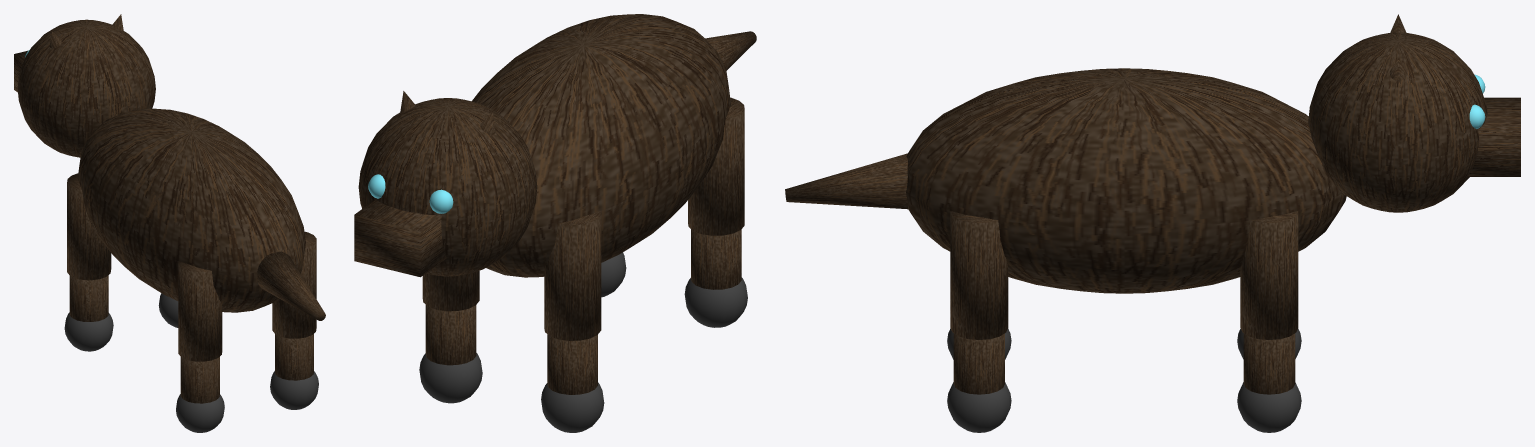
File: hyena.glb
The picture shows the model from 3 angles, left to right: view 1: azimuth 30°, elevation 25°; view 2: azimuth 150°, elevation 25°; view 3: azimuth 270°, elevation 25°; orthographic projection. The views are drawn at different scales.
Visible parts, largest first — view 1: Body, Head, LegUpper, LegUpper.001, Tail, LegUpper.002, LegLower, LegLower.001, LegLower.002, Paw.001, Paw, Paw.002 (+1 smaller); view 2: Body, Head, LegUpper.001, Snout, LegUpper, LegLower.003, LegLower, LegLower.001, Paw, Paw.003, Paw.001, LegUpper.003 (+3 smaller); view 3: Body, Head, LegUpper.003, LegUpper.002, Tail, Snout, LegLower.003, LegLower.002, Paw.002, Paw.003.
Boxes of the visible parts, x1=… form: Body: x1=77, y1=108, x2=305, y2=312; Head: x1=17, y1=19, x2=155, y2=157; LegUpper: x1=178, y1=261, x2=222, y2=361; LegUpper.001: x1=67, y1=173, x2=111, y2=280; Tail: x1=257, y1=251, x2=325, y2=320; LegUpper.002: x1=272, y1=231, x2=316, y2=338; LegLower: x1=180, y1=357, x2=219, y2=403; LegLower.001: x1=69, y1=275, x2=108, y2=321; LegLower.002: x1=275, y1=334, x2=313, y2=380; Paw.001: x1=64, y1=312, x2=113, y2=351; Paw: x1=176, y1=394, x2=224, y2=432; Paw.002: x1=270, y1=371, x2=318, y2=409; Body: x1=472, y1=14, x2=730, y2=277; Head: x1=358, y1=98, x2=537, y2=276; LegUpper.001: x1=544, y1=211, x2=601, y2=340; Snout: x1=354, y1=199, x2=446, y2=277; LegUpper: x1=688, y1=97, x2=744, y2=235; LegLower.003: x1=425, y1=305, x2=476, y2=365; LegLower: x1=691, y1=229, x2=741, y2=289; LegLower.001: x1=547, y1=334, x2=597, y2=394; Paw: x1=684, y1=277, x2=747, y2=327; Paw.003: x1=419, y1=353, x2=482, y2=403; Paw.001: x1=541, y1=382, x2=604, y2=432; LegUpper.003: x1=422, y1=270, x2=479, y2=311; Body: x1=906, y1=68, x2=1346, y2=293; Head: x1=1308, y1=32, x2=1487, y2=212; LegUpper.003: x1=1240, y1=211, x2=1298, y2=339; LegUpper.002: x1=950, y1=211, x2=1008, y2=339; Tail: x1=785, y1=153, x2=907, y2=209; Snout: x1=1468, y1=97, x2=1520, y2=176; LegLower.003: x1=1243, y1=333, x2=1295, y2=394; LegLower.002: x1=953, y1=333, x2=1004, y2=394; Paw.002: x1=947, y1=382, x2=1011, y2=432; Paw.003: x1=1237, y1=382, x2=1301, y2=432.
Size of the model in its own units: 0.5535 by 0.986 by 1.8.
3 materials, 1 textured.
